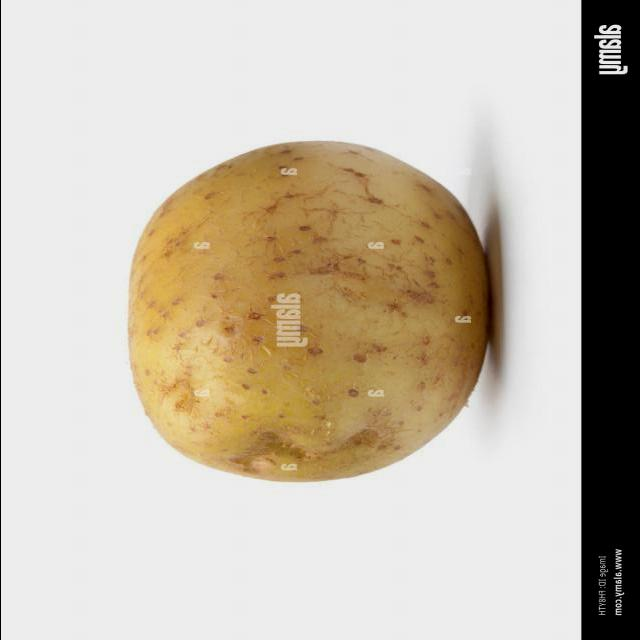potato: (126, 143, 493, 482)
